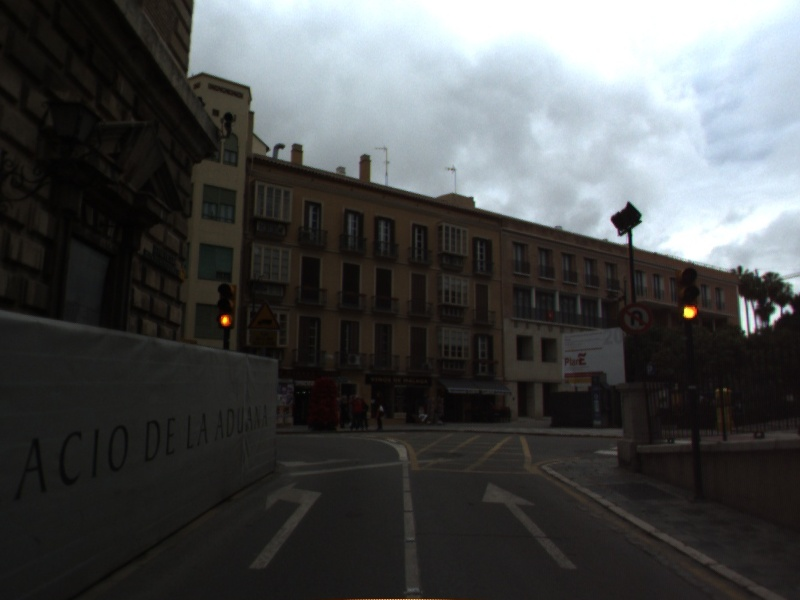LEFT: (246, 480, 324, 572)
STRAIGHT: (479, 479, 579, 571)
